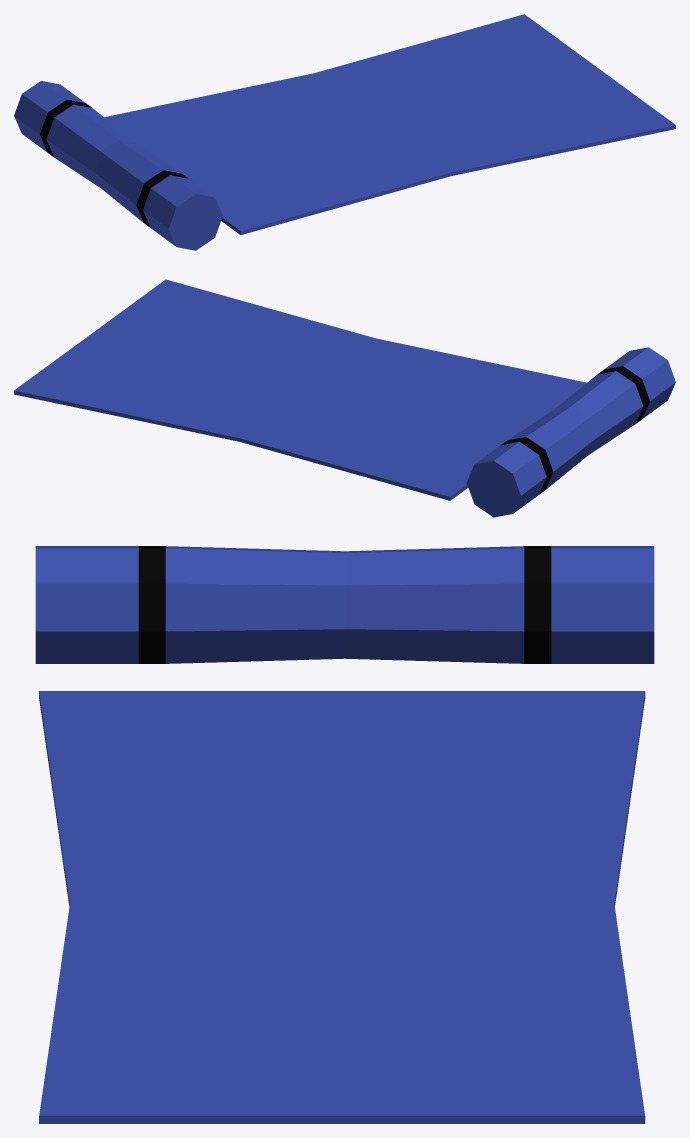
The model's file is tapete.fbx.
The picture shows the model from 3 angles, top to bottom: view 1: azimuth 30°, elevation 25°; view 2: azimuth 150°, elevation 25°; view 3: azimuth 270°, elevation 25°; orthographic projection. The views are drawn at different scales.
Visible parts, largest first — view 1: Cube, Cylinder; view 2: Cube, Cylinder; view 3: Cube, Cylinder.
Boxes of the visible parts, left/top/right/bottom form: Cube: left=104, top=14, right=675, bottom=234; Cylinder: left=14, top=81, right=222, bottom=250; Cube: left=14, top=279, right=586, bottom=500; Cylinder: left=466, top=347, right=675, bottom=517; Cube: left=39, top=691, right=645, bottom=1123; Cylinder: left=35, top=546, right=654, bottom=663.
Size of the model in its own units: 1872 by 200 by 987.
